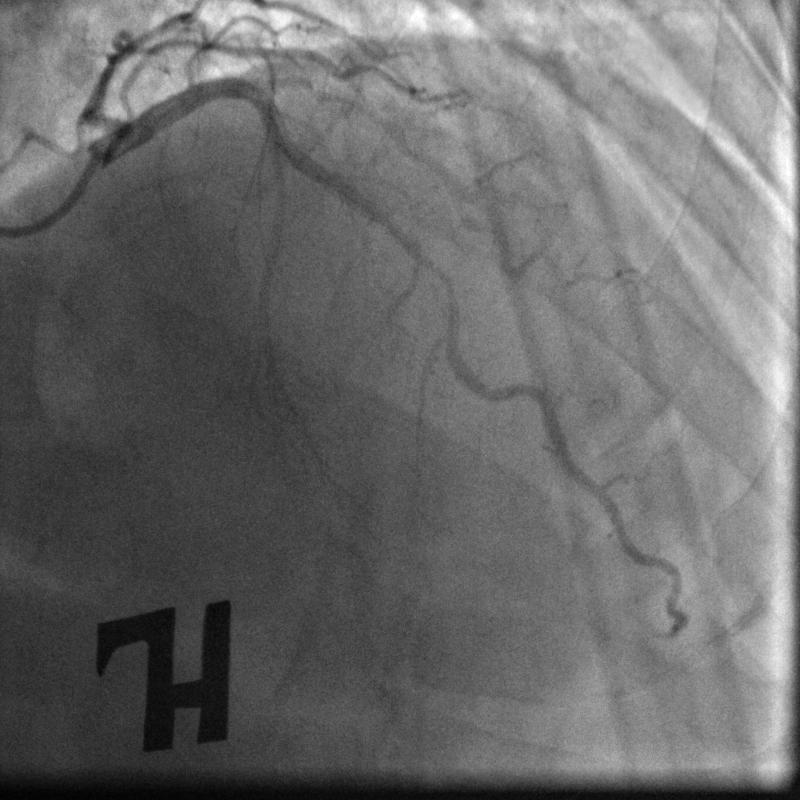Stenosis: (422, 255, 465, 335)
